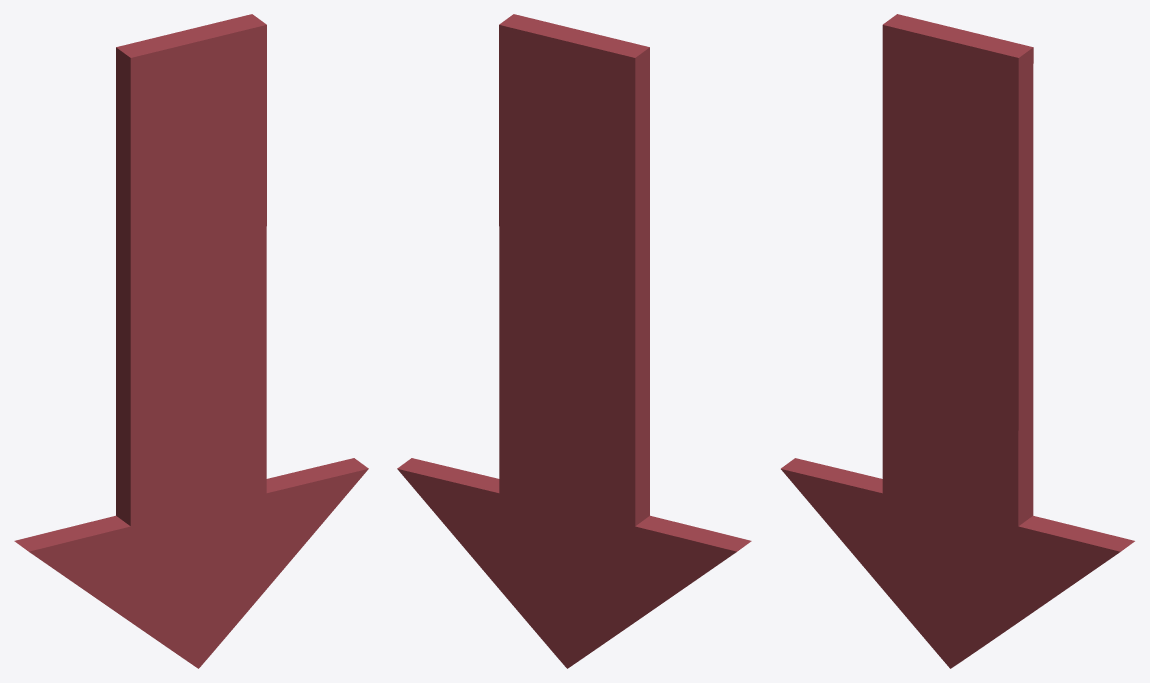
Rendered from arrow.glb.
3 views of the same model, side by side, from view 1: azimuth 30°, elevation 25°; view 2: azimuth 150°, elevation 25°; view 3: azimuth 330°, elevation 25° (orthographic).
Parts seen in each view (by area): view 1: Mesh_Mesh_head_geo.001_lambert2SG.001; view 2: Mesh_Mesh_head_geo.001_lambert2SG.001; view 3: Mesh_Mesh_head_geo.001_lambert2SG.001.
Boxes of the visible parts, x1,y1,x2,y2 form: Mesh_Mesh_head_geo.001_lambert2SG.001: (14, 14, 368, 668); Mesh_Mesh_head_geo.001_lambert2SG.001: (397, 14, 751, 668); Mesh_Mesh_head_geo.001_lambert2SG.001: (781, 14, 1134, 668).
Size of the model in its own units: 19.29 by 34 by 1.45.
